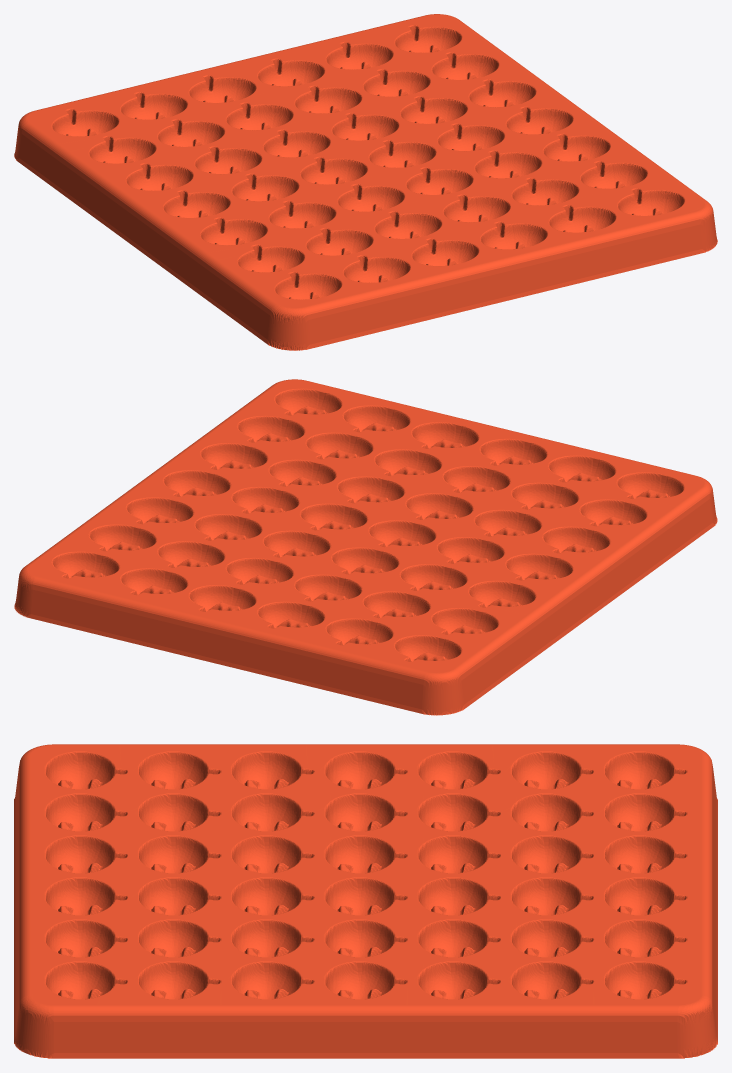
The model's file is mold.glb.
The picture shows the model from 3 angles, top to bottom: view 1: azimuth 30°, elevation 25°; view 2: azimuth 150°, elevation 25°; view 3: azimuth 270°, elevation 25°; orthographic projection. The views are drawn at different scales.
Parts seen in each view (by area): view 1: geometry_0; view 2: geometry_0; view 3: geometry_0.
Part boxes in pixels (<box>): geometry_0: <box>14,14,717,350</box>; geometry_0: <box>14,379,717,715</box>; geometry_0: <box>14,744,717,1058</box>.
Size of the model in its own units: 0.1437 by 0.0114 by 0.1562.
